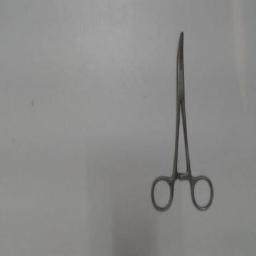Crile Artery Forceps: (147, 26, 219, 218)
